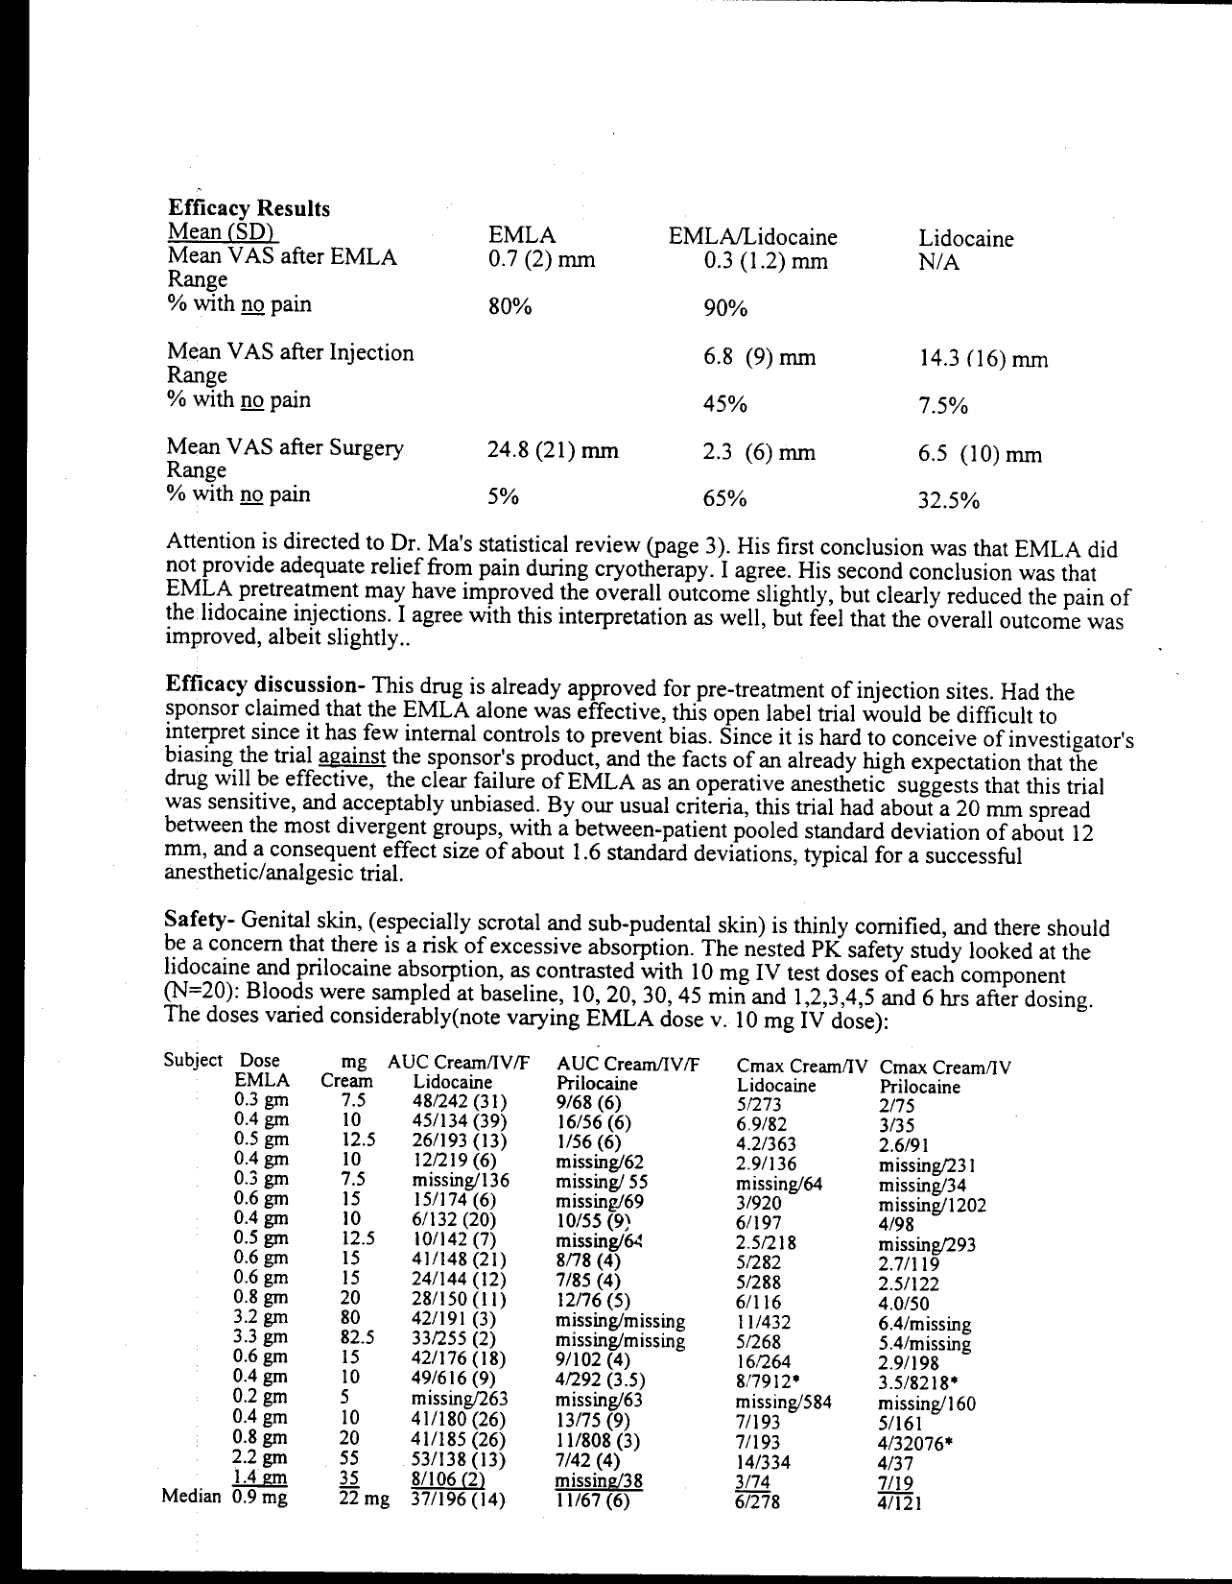nolines: (158, 1047, 1012, 1513), (166, 195, 1053, 510)
